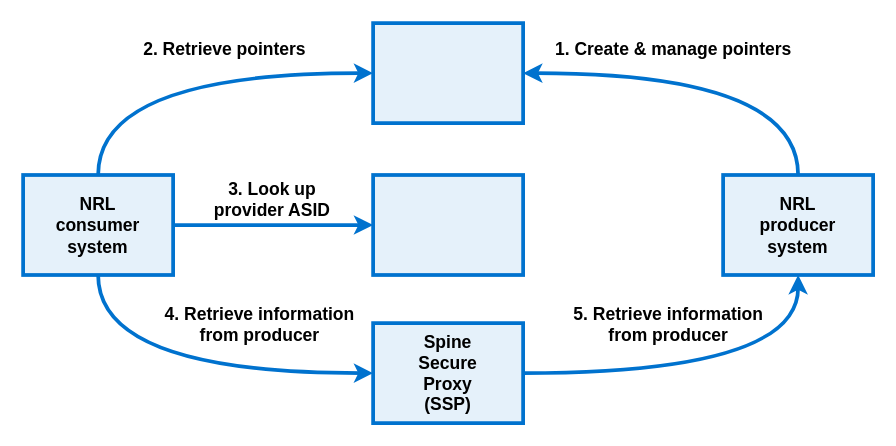
Some shapes in this 896 by 446 pixel diagram are drawn without their labels. The box of each missing label's shape, as (x1, y1, x2, y2) in pixels:
National Record Locator (NRL): (371, 21, 524, 124)
Spine Directory Service (SDS): (371, 172, 524, 276)
